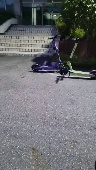beam: (29, 34, 67, 72)
gcooter: (59, 37, 96, 80)
